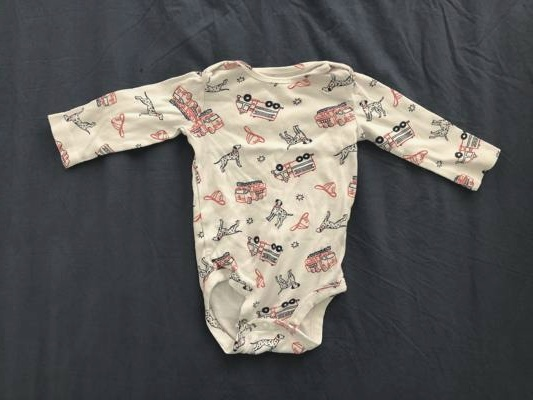Body: (35, 47, 501, 366)
